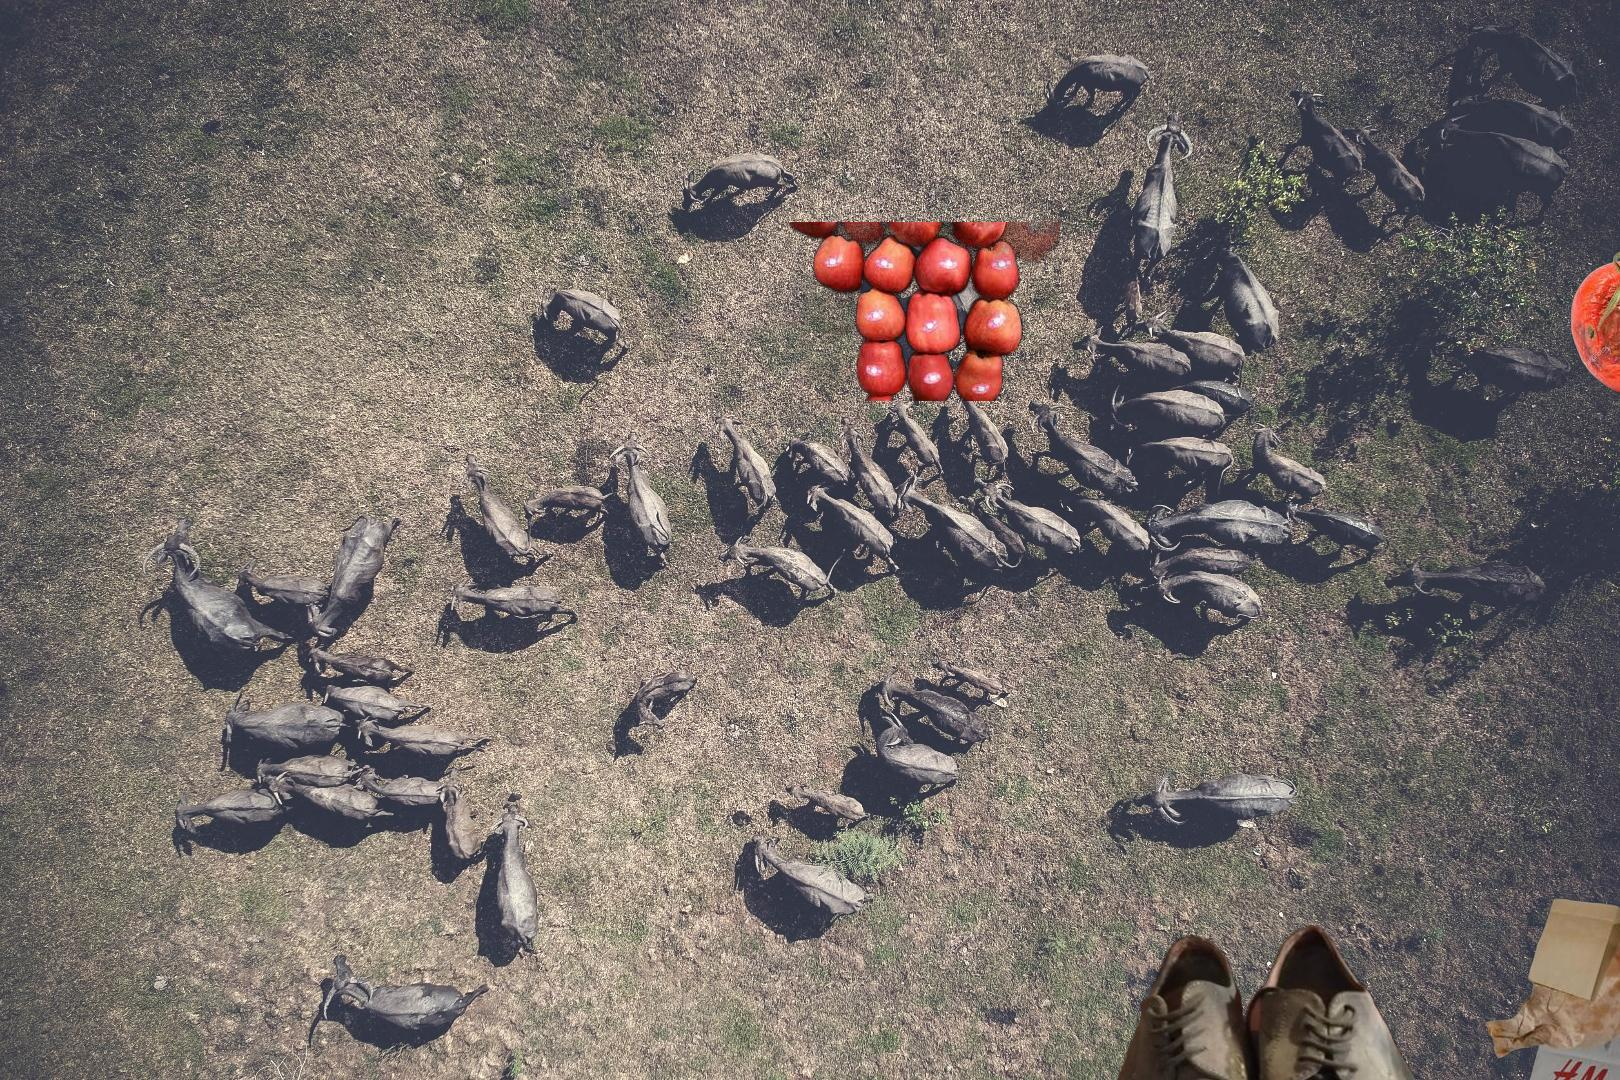biological: (779, 222, 1060, 401), (1568, 231, 1620, 399)
metal-cans: (837, 835, 976, 1080)
paper-bag: (1483, 897, 1620, 1080)
shoes: (1057, 921, 1450, 1080)
